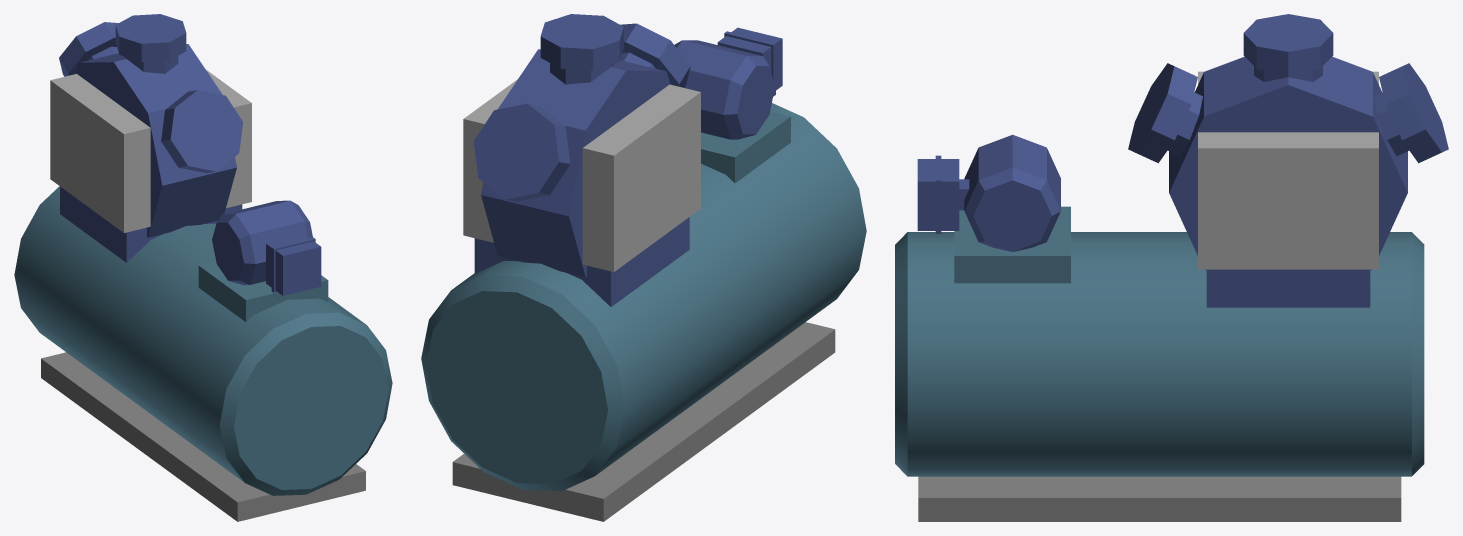
File: 空压机.fbx
The picture shows the model from 3 angles, left to right: view 1: azimuth 30°, elevation 25°; view 2: azimuth 150°, elevation 25°; view 3: azimuth 270°, elevation 25°; orthographic projection. The views are drawn at different scales.
Parts seen in each view (by area): view 1: 存储罐, 压缩机, 底座, 电机; view 2: 存储罐, 压缩机, 底座, 电机; view 3: 存储罐, 压缩机, 底座, 电机.
Boxes of the visible parts, <box> form: 存储罐: <box>14,186,392,495</box>; 压缩机: <box>50,14,251,262</box>; 底座: <box>41,352,365,521</box>; 电机: <box>212,200,321,295</box>; 存储罐: <box>421,103,866,491</box>; 压缩机: <box>463,14,700,306</box>; 底座: <box>452,322,835,521</box>; 电机: <box>674,27,782,139</box>; 存储罐: <box>895,206,1424,476</box>; 压缩机: <box>1128,14,1448,307</box>; 底座: <box>918,476,1401,521</box>; 电机: <box>917,134,1060,251</box>.
Bounding box in the file's own units: 59.04 × 120 × 133.
